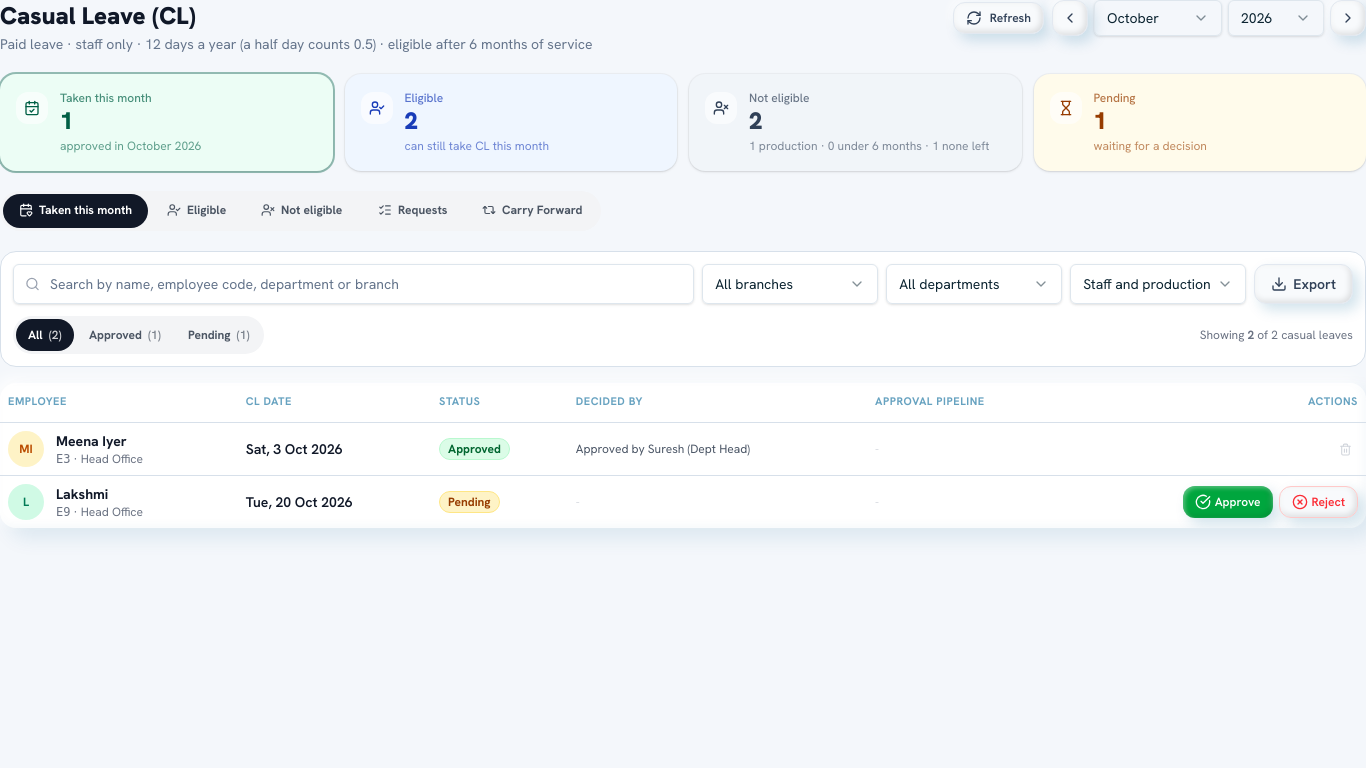
the Casual Leave page › under the yearly rule shows each employee's balance, names an empty one, and opens the year's history
The width and height of the screenshot is (1366, 768).
Click the tab "Eligible" at (197, 210), box [151,194,242,228]
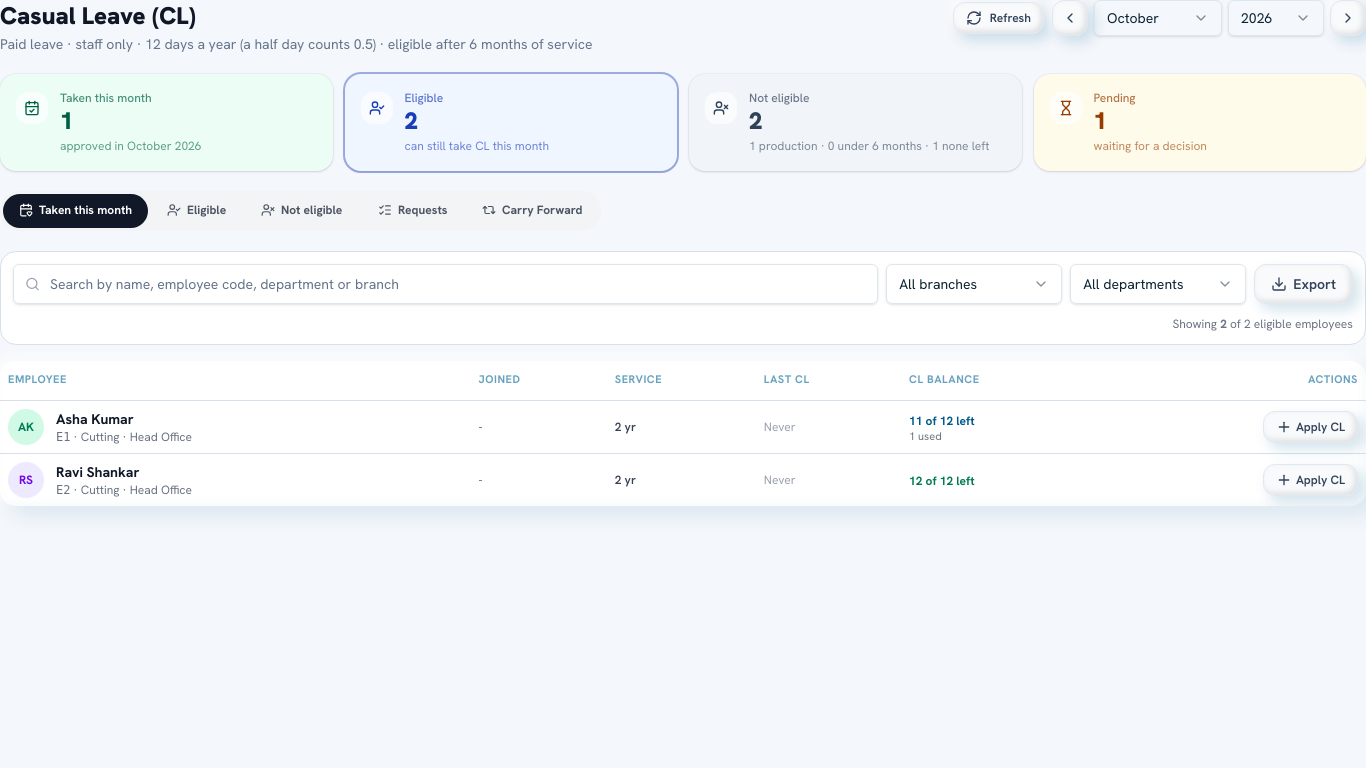
Check: the text "12 of 12 left" is shown, box [909,473,975,489]
Click the tab "Not eligible" at (302, 210), box [245,194,358,228]
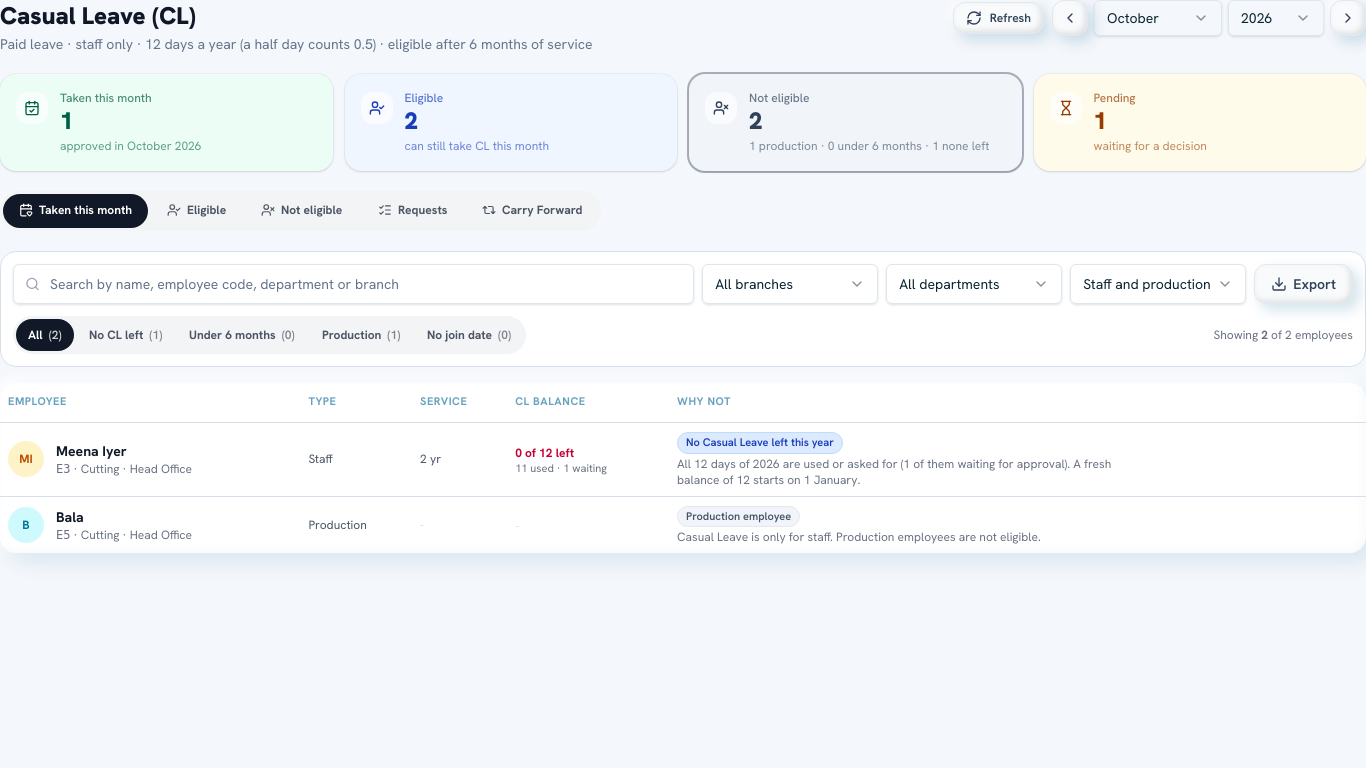
Check: the tab "No CL left (1)" is shown, box [77,318,174,350]
Click the tab "Eligible" at (197, 210), box [151,194,242,228]
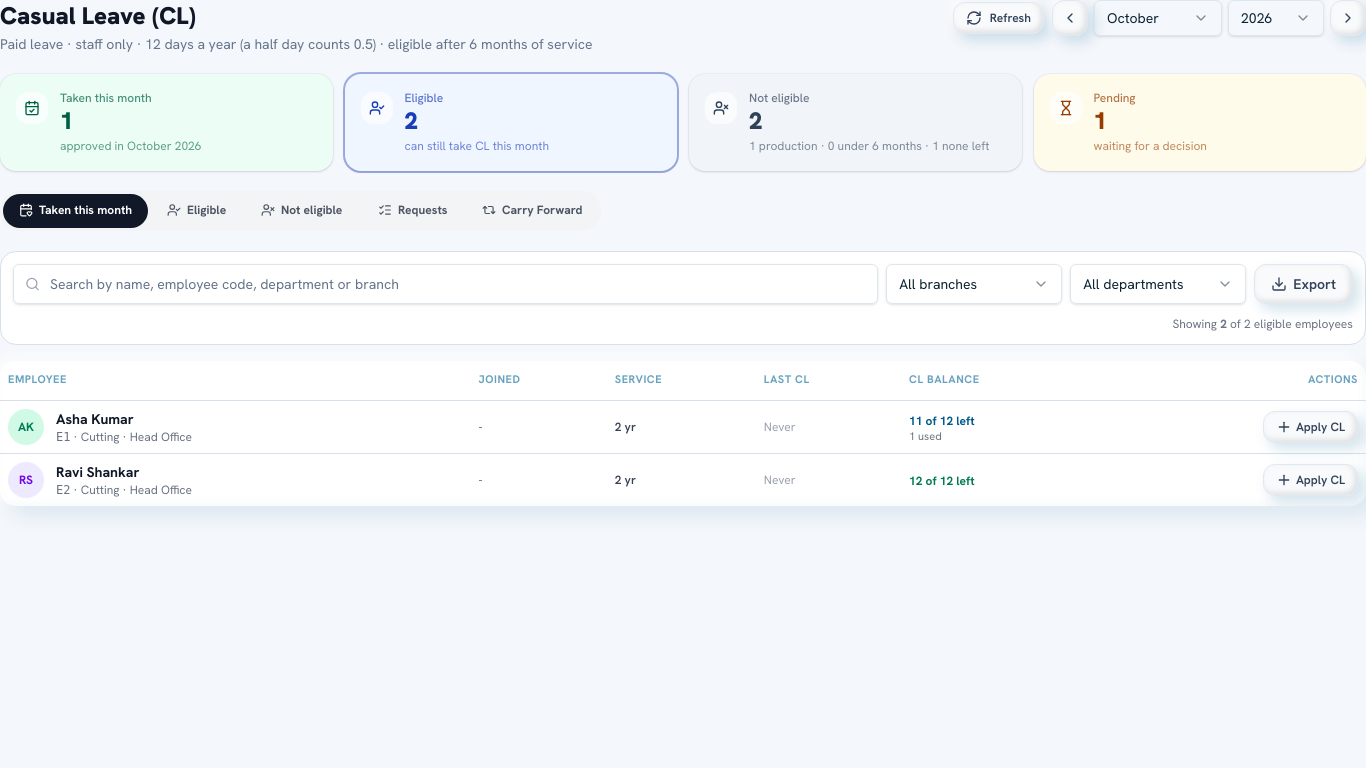
Click the button "11 of 12 left 1 used" at (942, 428), box [901,409,983,448]
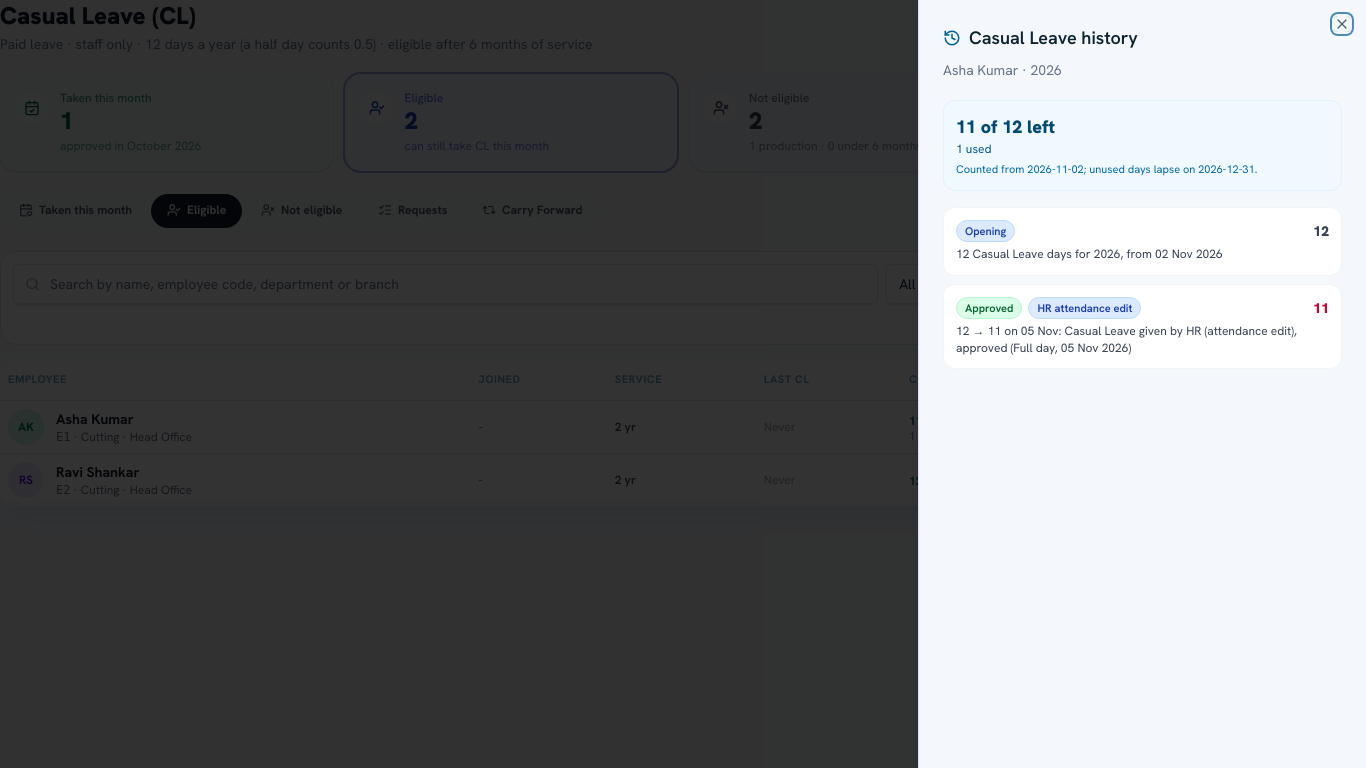
Check: the dialog with test id "cl-history" shows "Asha Kumar · 2026", box [918,0,1365,767]
Check: the element with test id "cl-history-balance" shows "11 of 12 left", box [956,115,1055,138]
Check: the list item with test id "cl-history-entry" shows "12 → 11 on 05 Nov", box [956,323,1297,356]
